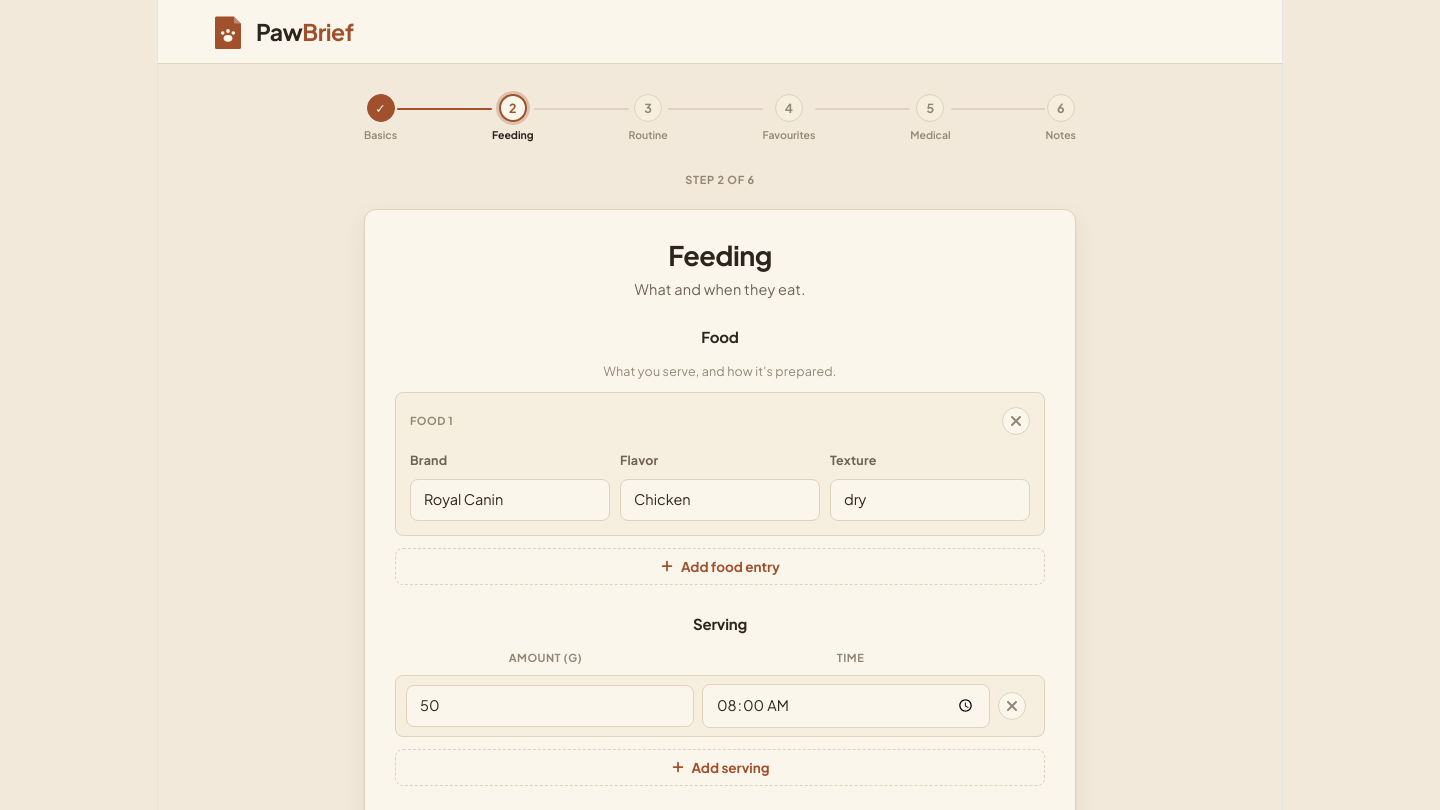
Test: WizardPage Stepper › in Edit Mode clicking an earlier Stepper step navigates there
Expected: the button "Add food entry" is shown, [395,548,1045,585]
Click the button "✓ Basics" at (380, 118), box [364,94,397,141]
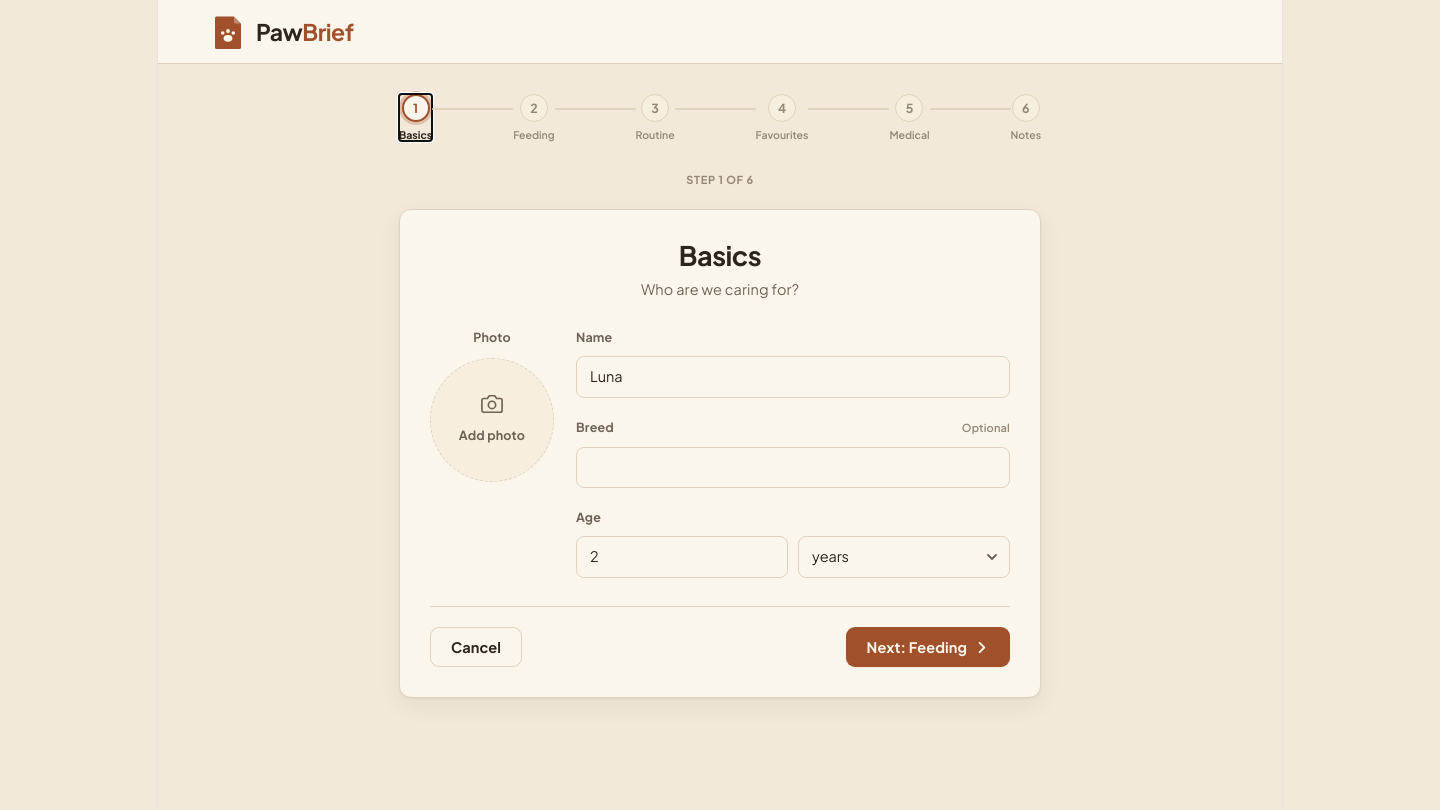
Expected: the field labelled "Name" is shown, [576,356,1010,398]
